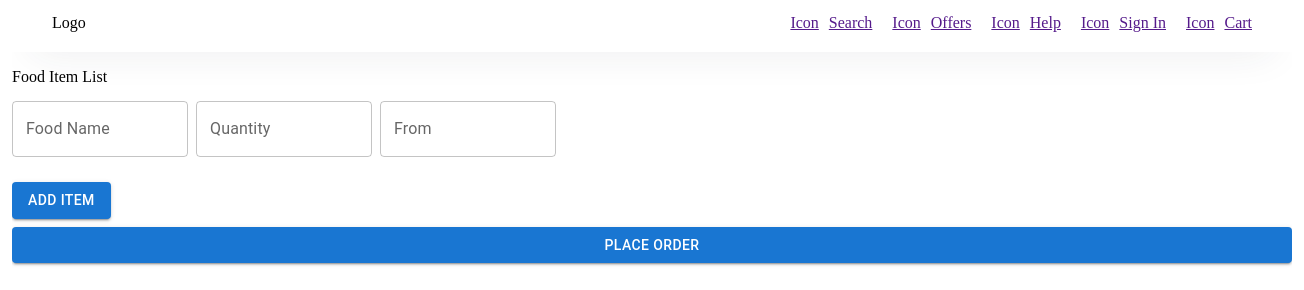
Test: The required message on the form submit › should display an error message when food item is empty
Click the button with test id "foodItemList_place_order_button".
click(652, 245)  # box [12,226,1292,263]
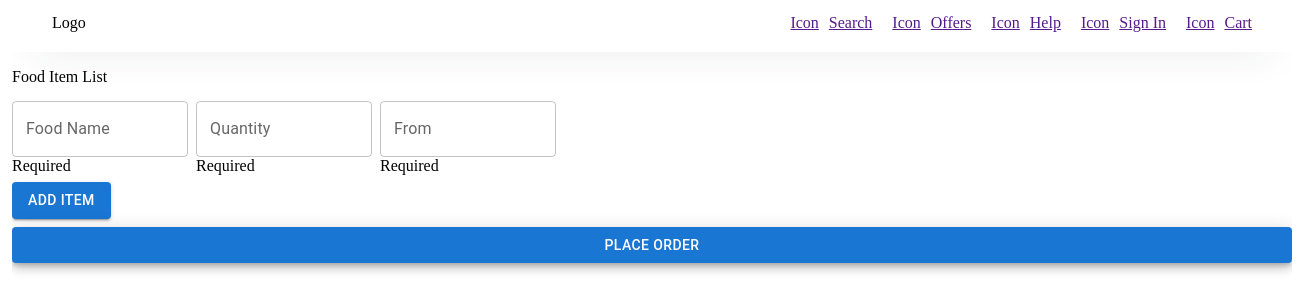
Now the element showing "Required" below "Food Name" is shown, box [12,157,71,174]
